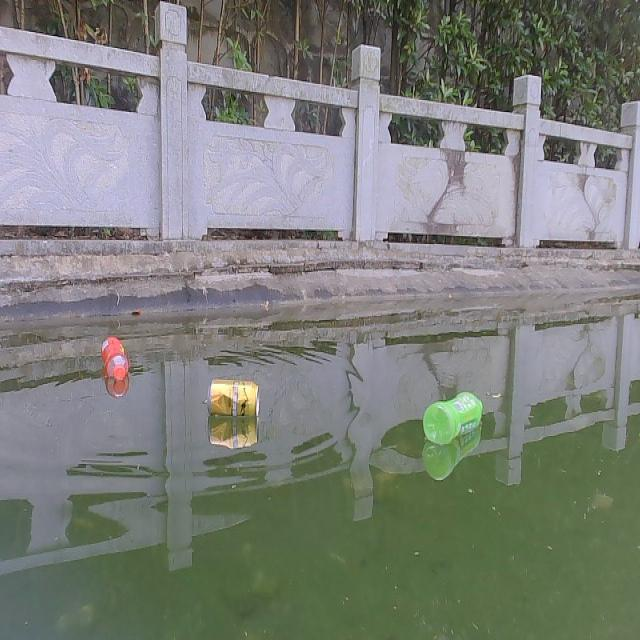Bottle: (422, 391, 483, 441), (100, 334, 128, 382)
Can: (204, 376, 260, 417)
